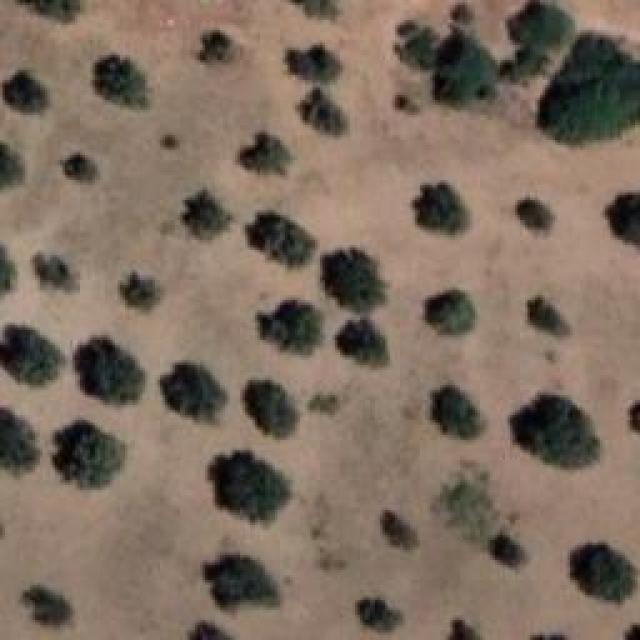Tree: (535, 33, 639, 149), (510, 393, 604, 468), (428, 33, 503, 113), (53, 418, 130, 494), (210, 450, 288, 522), (200, 550, 284, 613), (73, 338, 147, 406), (568, 540, 631, 606), (255, 300, 323, 359), (238, 377, 307, 435), (243, 210, 315, 265), (0, 323, 63, 385), (90, 50, 153, 111), (325, 250, 384, 313), (410, 185, 474, 242), (168, 360, 224, 424), (335, 314, 392, 368), (505, 0, 563, 49), (178, 190, 227, 247), (430, 386, 483, 438), (0, 410, 41, 473), (392, 18, 438, 70), (421, 285, 474, 329), (238, 133, 288, 177), (285, 44, 339, 84), (25, 250, 75, 293), (15, 0, 82, 31), (525, 292, 570, 338), (600, 190, 640, 241), (118, 270, 162, 314), (350, 593, 399, 632), (22, 583, 68, 624), (297, 90, 342, 131), (377, 513, 423, 553), (502, 48, 548, 88), (3, 75, 50, 114), (195, 30, 243, 67), (57, 143, 102, 180), (510, 198, 550, 236), (0, 140, 25, 199), (488, 525, 522, 567), (290, 0, 342, 24), (153, 130, 190, 156), (185, 620, 232, 640), (443, 615, 482, 639), (0, 245, 15, 292), (448, 0, 478, 23), (625, 398, 640, 434)
